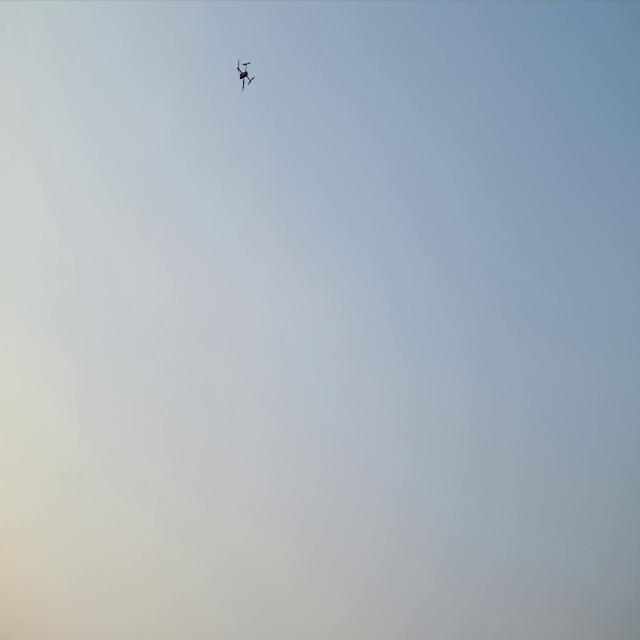UAV: (234, 53, 256, 92)
